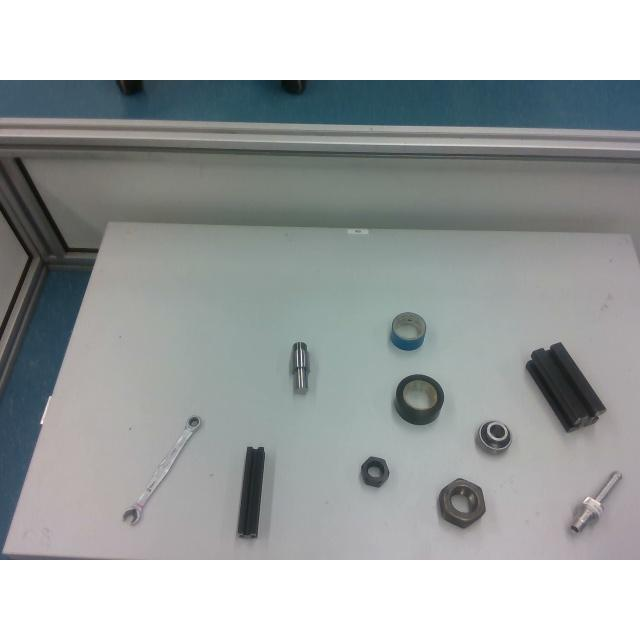Axis2: (291, 341, 307, 391)
Bearing2: (476, 420, 512, 456)
F20_20_B: (237, 446, 267, 538)
M20: (359, 456, 388, 486)
M30: (436, 478, 484, 526)
S40_40_B: (525, 342, 607, 434)
Wrench: (120, 417, 200, 523)
